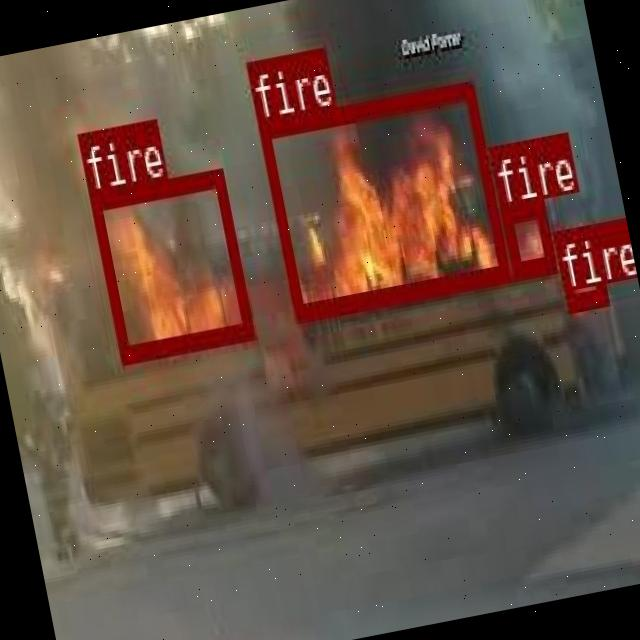fire: (256, 81, 510, 321), (86, 168, 252, 360), (552, 222, 607, 308), (499, 198, 555, 278)
